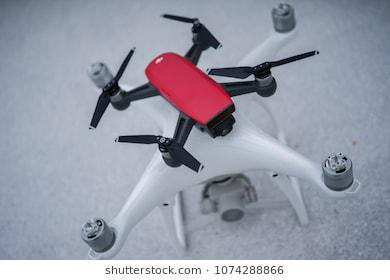drone: (55, 0, 363, 260)
